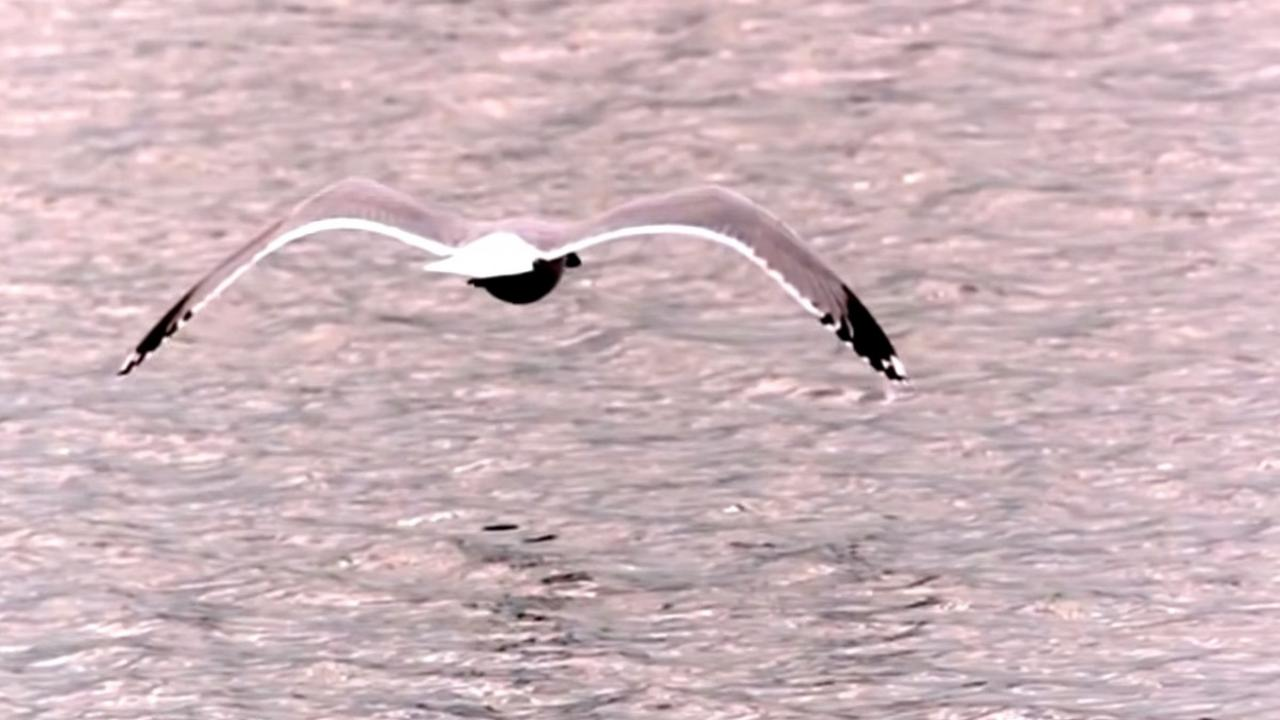Bird: (111, 168, 921, 396)
